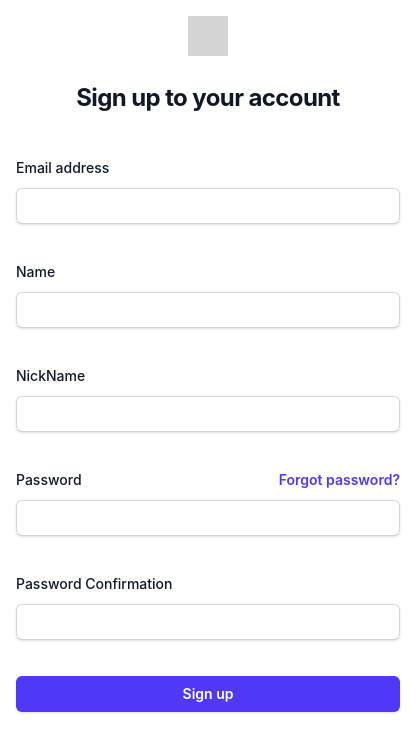
Test case: 회원가입 테스트 › 이름 형식을 확인한다 › 이름이 2자 미만이면 에러메세지가 표시된다
The image size is (417, 730).
Note: 이름이 2자 미만
Step 1. Type "s" into the field labelled "Name" → (208, 310), box 16,292 -> 400,328
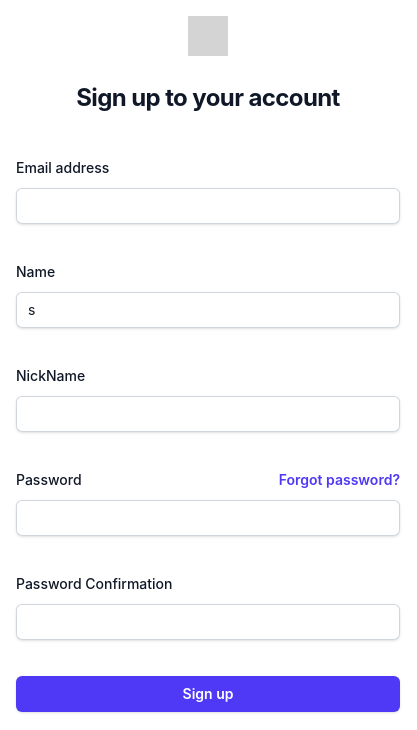
Step 2. Submit the form from the button with test id "submit-button", box 16,676 -> 400,712
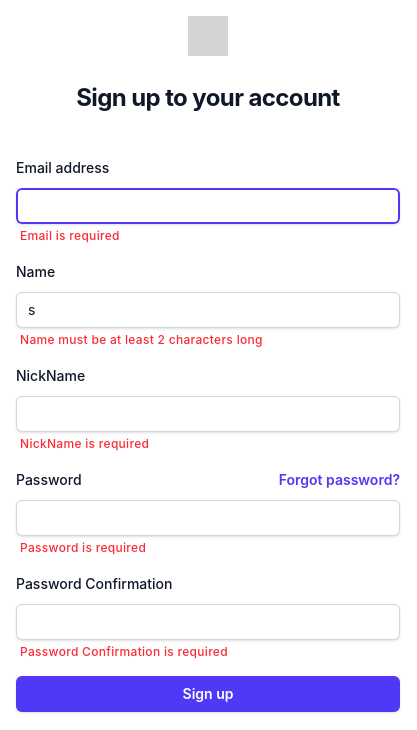
Expected: the text "Name must be at least 2 characters long" is shown, 20,332 -> 263,347
